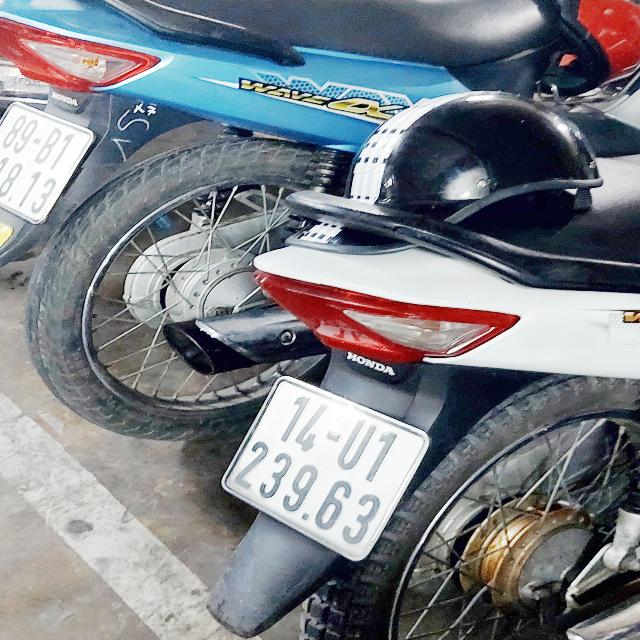license_plate: (222, 375, 430, 561)
